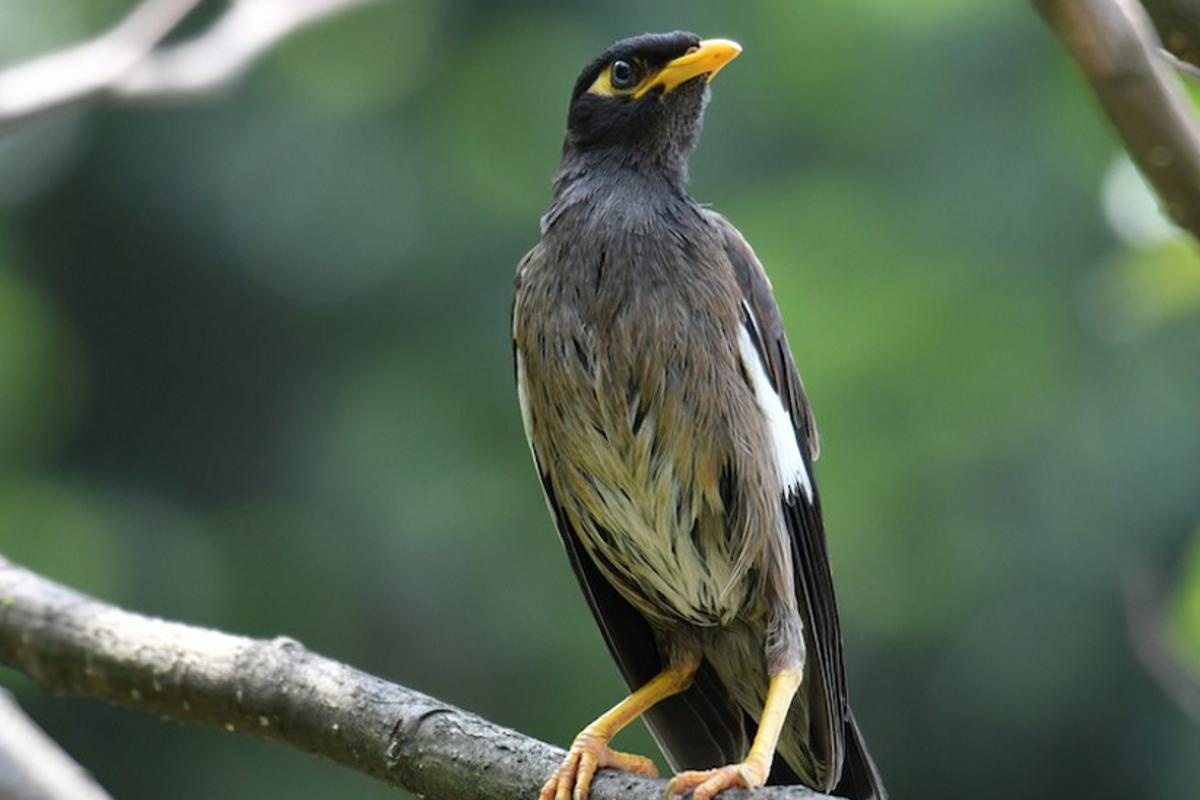myna: (540, 27, 844, 788)
